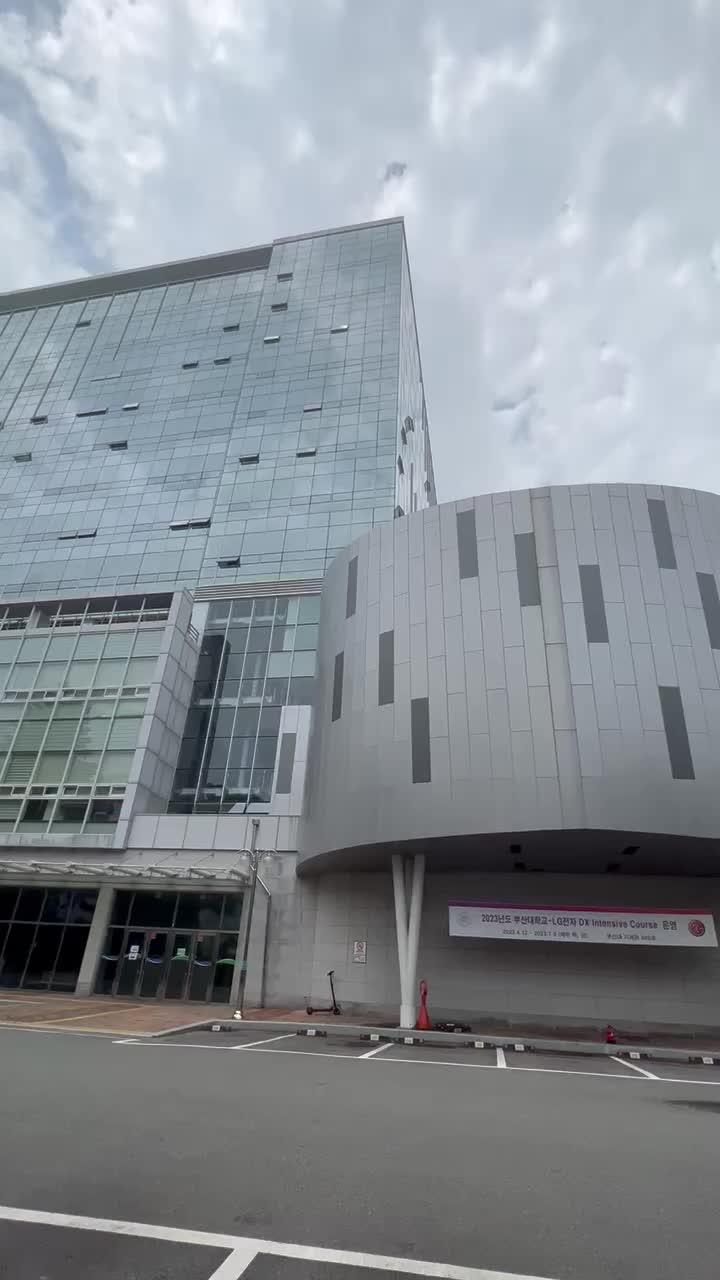building: (4, 256, 720, 894)
